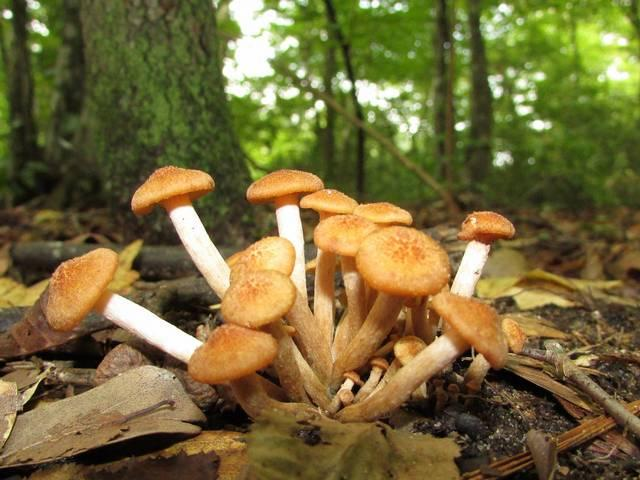Edible Mushroom: (43, 163, 528, 420)
